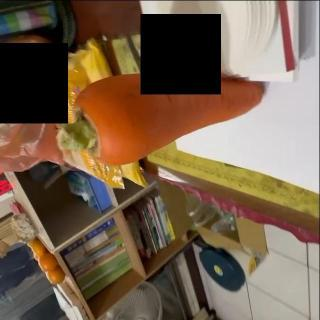carrot: (60, 72, 264, 166)
